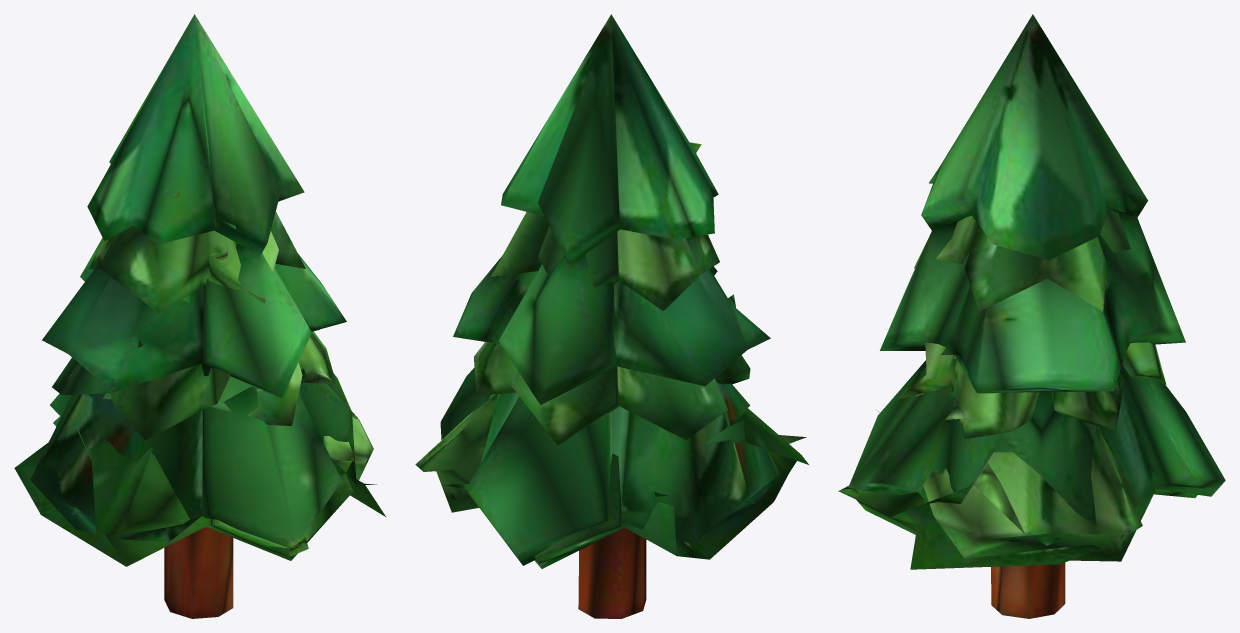
The model's file is prop_pines.glb.
3 renders of one model, left to right at view 1: azimuth 30°, elevation 25°; view 2: azimuth 150°, elevation 25°; view 3: azimuth 270°, elevation 25°, orthographic.
Visible parts, largest first — view 1: tree_1, tree_2; view 2: tree_1, tree_2; view 3: tree_1, tree_2.
Part boxes in pixels (left/top/right/bottom): tree_1: left=30, top=14, right=386, bottom=618; tree_2: left=14, top=211, right=373, bottom=566; tree_1: left=440, top=14, right=806, bottom=618; tree_2: left=415, top=212, right=809, bottom=568; tree_1: left=838, top=14, right=1225, bottom=618; tree_2: left=854, top=209, right=1197, bottom=561.
Size of the model in its own units: 3.53 by 6.43 by 3.83.
1 material, 1 textured.
